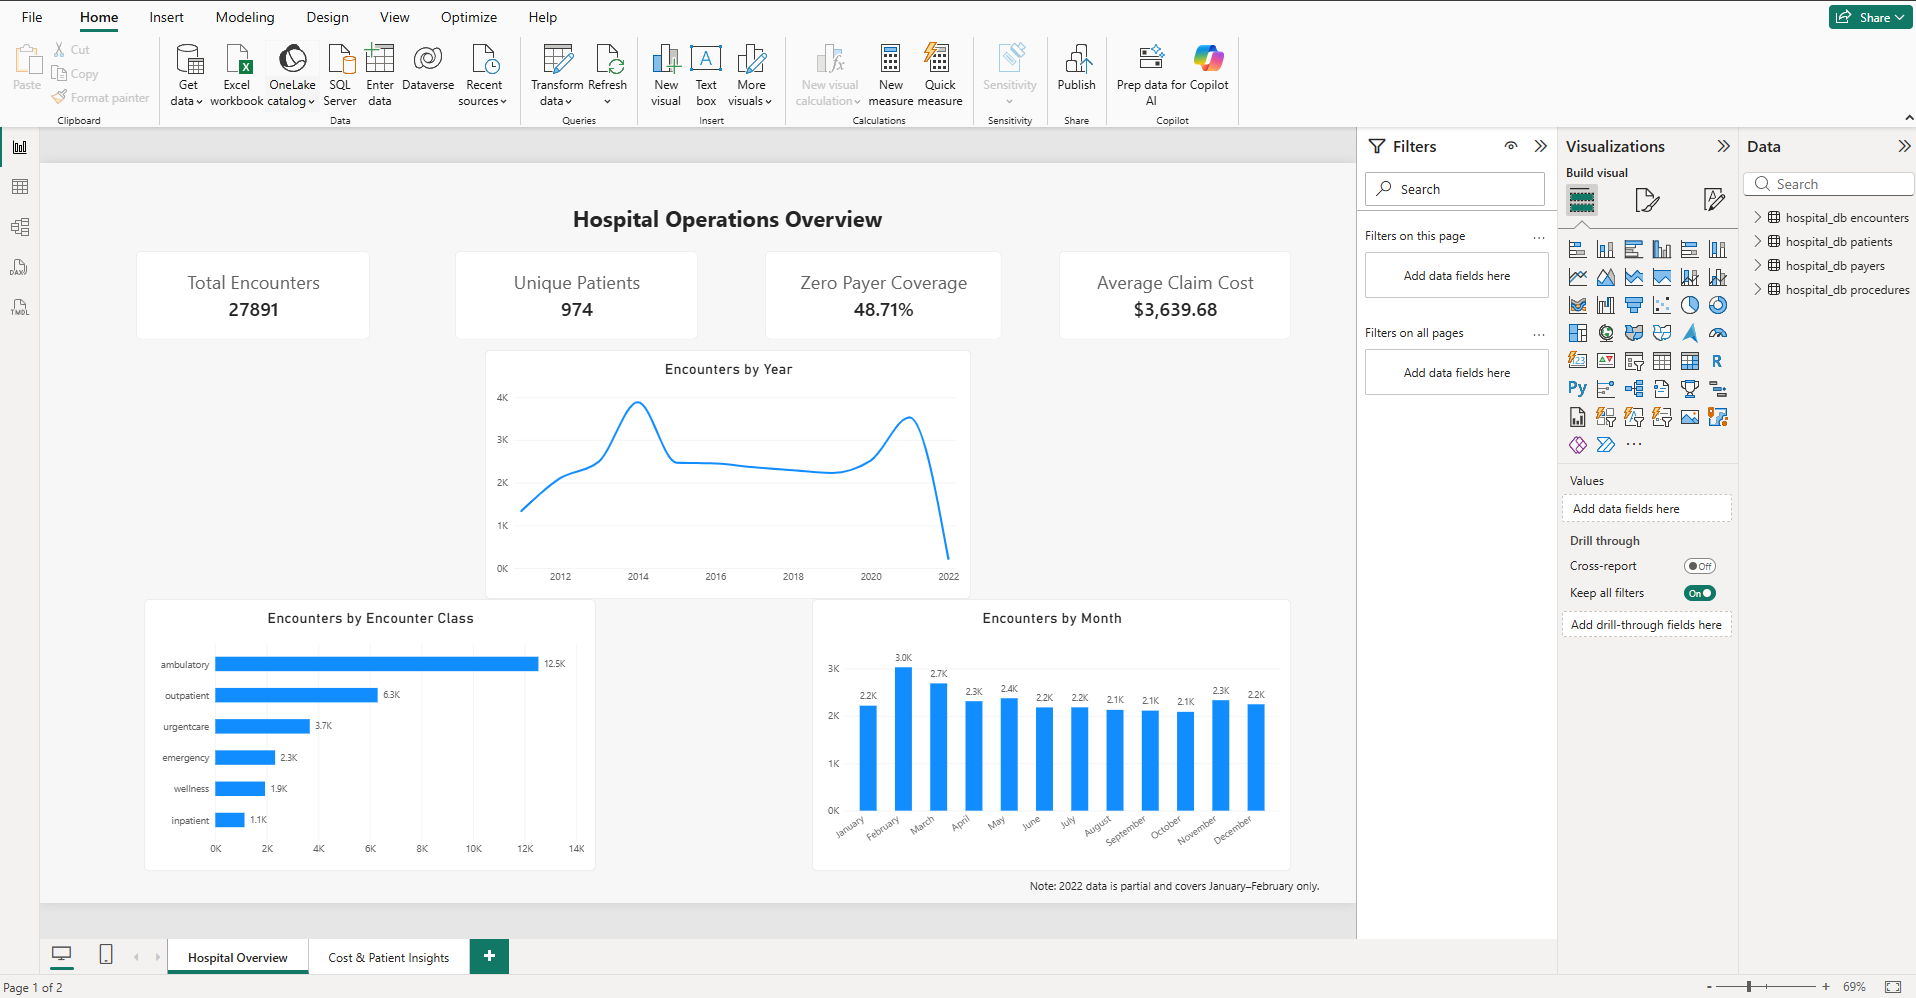

The page's visual inventory and layout, read from the dashboard file:
{"tool":"powerbi","page":{"name":"Hospital Overview","canvas":[1920,1080],"ordinal":0},"visuals":[{"type":"cardVisual","fields":{"Data":["hospital_db encounters.Total Encounters"]},"box":[140.1,128.4,341.4,129.8],"z":0},{"type":"cardVisual","fields":{"Data":["hospital_db encounters.Unique Patients"]},"box":[605.5,128.4,354.5,129.8],"z":1},{"type":"cardVisual","fields":{"Data":["hospital_db encounters.Average Claim Cost"]},"box":[1486.7,128.4,338.5,129.8],"z":2},{"type":"cardVisual","fields":{"Data":["hospital_db encounters.Zero Payer Coverage %"]},"box":[1057.8,128.4,345.8,129.8],"z":3},{"type":"textbox","box":[747,39.4,512.1,89],"z":4},{"type":"lineChart","title":"Encounters by Year","fields":{"Category":["hospital_db encounters.START.Variation.Date Hierarchy.Year"],"Y":["hospital_db encounters.Total Encounters"]},"box":[649.2,272.8,709.1,363.3],"z":5},{"type":"clusteredBarChart","title":"Encounters by Encounter Class","fields":{"Category":["hospital_db encounters.ENCOUNTERCLASS"],"Y":["hospital_db encounters.Total Encounters"]},"box":[151.7,636.1,659.5,396.8],"z":6},{"type":"clusteredColumnChart","title":"Encounters by Month","fields":{"Category":["hospital_db encounters.START.Variation.Date Hierarchy.Month"],"Y":["hospital_db encounters.Total Encounters"]},"box":[1126.3,636.1,698.8,396.8],"z":7},{"type":"textbox","box":[1390.4,1043.2,529.6,36.5],"z":8}]}

Visuals, with their boxes on the page's 1920x1080 design canvas (x1, y1, x2, y2). These are canvas units, not pixel positions in the 1916x998 screenshot, which may show the page scaled, cropped or inside an application window:
cardVisual - hospital_db encounters.Total Encounters: <box>140,128,482,258</box>
cardVisual - hospital_db encounters.Unique Patients: <box>606,128,960,258</box>
cardVisual - hospital_db encounters.Average Claim Cost: <box>1487,128,1825,258</box>
cardVisual - hospital_db encounters.Zero Payer Coverage %: <box>1058,128,1404,258</box>
textbox: <box>747,39,1259,128</box>
"Encounters by Year" lineChart: <box>649,273,1358,636</box>
"Encounters by Encounter Class" clusteredBarChart: <box>152,636,811,1033</box>
"Encounters by Month" clusteredColumnChart: <box>1126,636,1825,1033</box>
textbox: <box>1390,1043,1920,1080</box>
